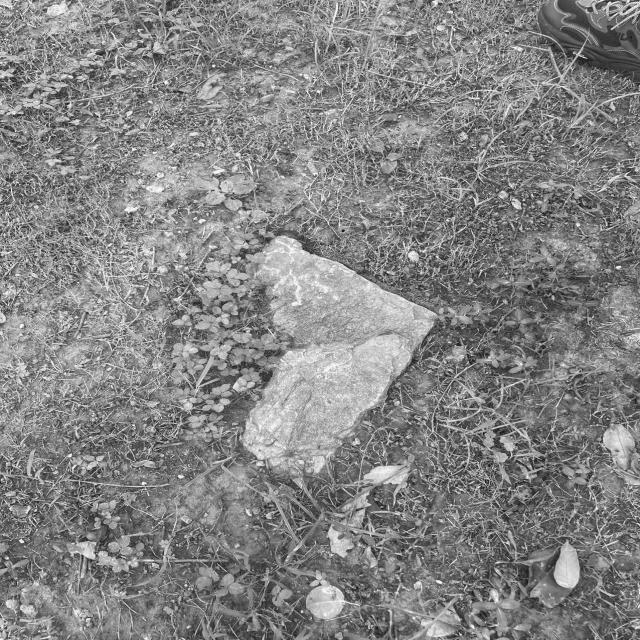Stone: (243, 236, 435, 477)
